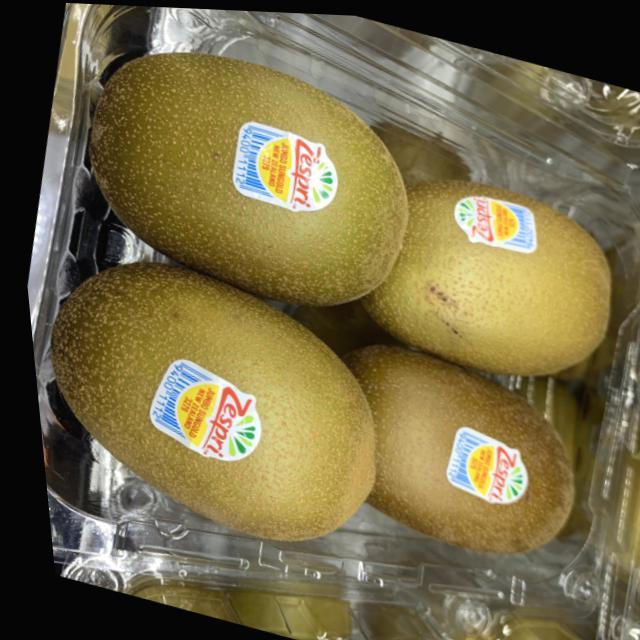kiwi: (19, 232, 409, 568), (52, 20, 439, 333), (297, 327, 595, 571)
